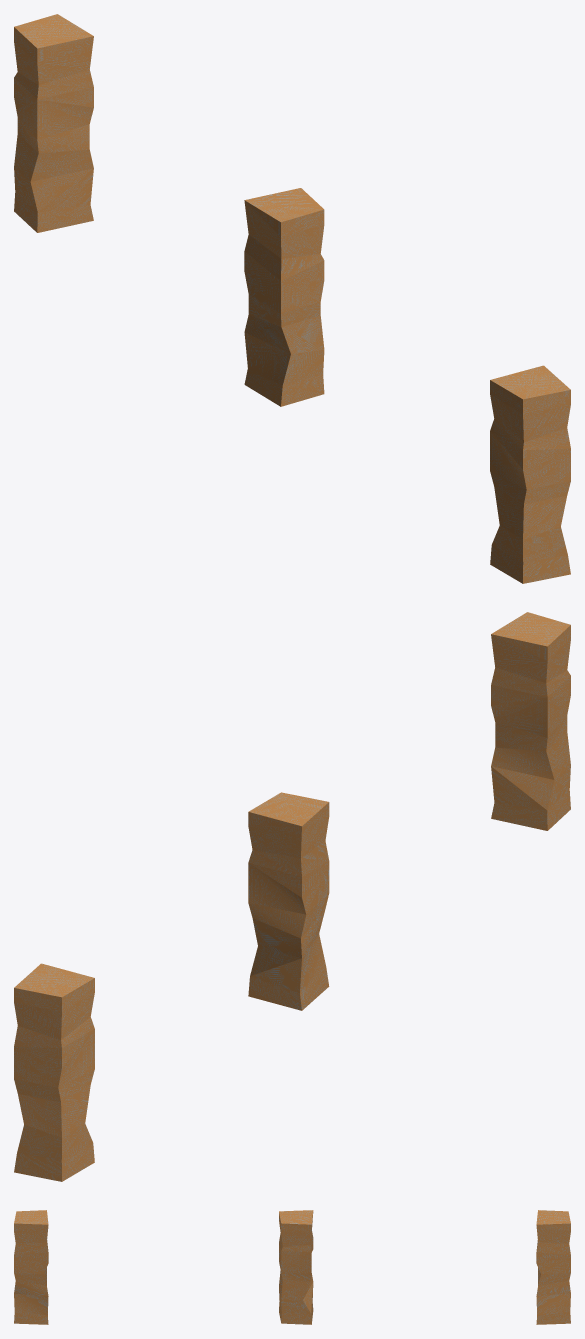
File: Piles.fbx
The picture shows the model from 3 angles, top to bottom: view 1: azimuth 30°, elevation 25°; view 2: azimuth 150°, elevation 25°; view 3: azimuth 270°, elevation 25°; orthographic projection. The views are drawn at different scales.
Parts seen in each view (by area): view 1: Group2, Group4, Group3; view 2: Group3, Group2, Group4; view 3: Group3, Group4, Group2.
Boxes of the visible parts, x1=… form: Group2: x1=244, y1=188, x2=324, y2=406; Group4: x1=14, y1=14, x2=93, y2=232; Group3: x1=490, y1=365, x2=570, y2=583; Group3: x1=491, y1=612, x2=570, y2=830; Group2: x1=248, y1=792, x2=329, y2=1010; Group4: x1=14, y1=963, x2=94, y2=1181; Group3: x1=14, y1=1210, x2=48, y2=1324; Group4: x1=536, y1=1210, x2=570, y2=1324; Group2: x1=279, y1=1210, x2=313, y2=1324.
Size of the model in its own units: 150 by 480 by 2420.
